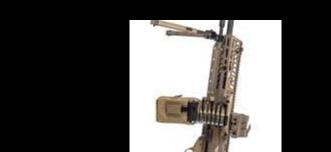larga: (150, 20, 252, 152)
